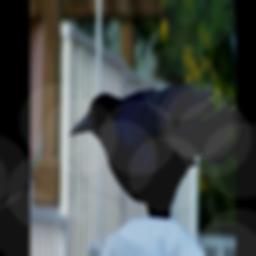Crow: (68, 81, 233, 216)
